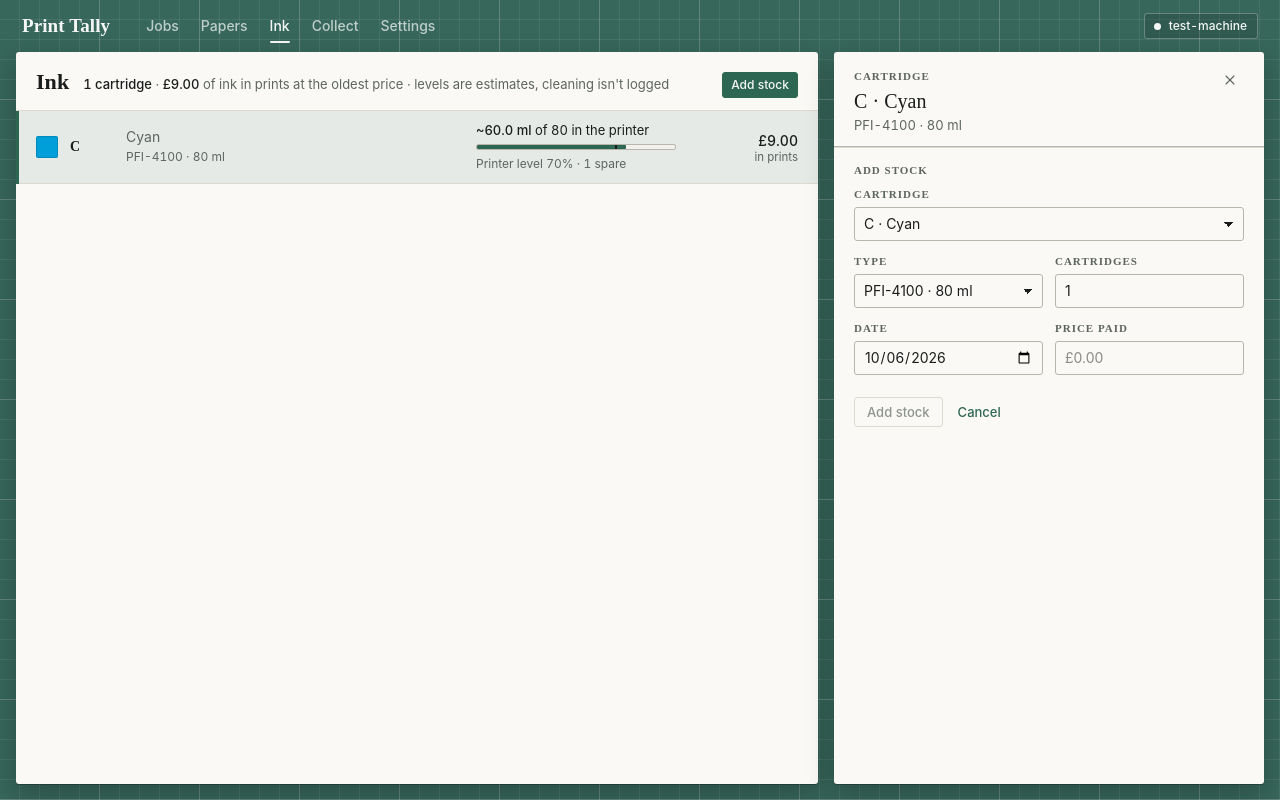
Test case: buying an existing cartridge requires a valid price and sends the chosen quantity and date
The width and height of the screenshot is (1280, 800).
Expected: the button "Add stock" is disabled, 854,397 -> 943,427
Type "invalid" into the field labelled "Price paid" at {"x": 1150, "y": 358}, box 1055,341 -> 1244,375
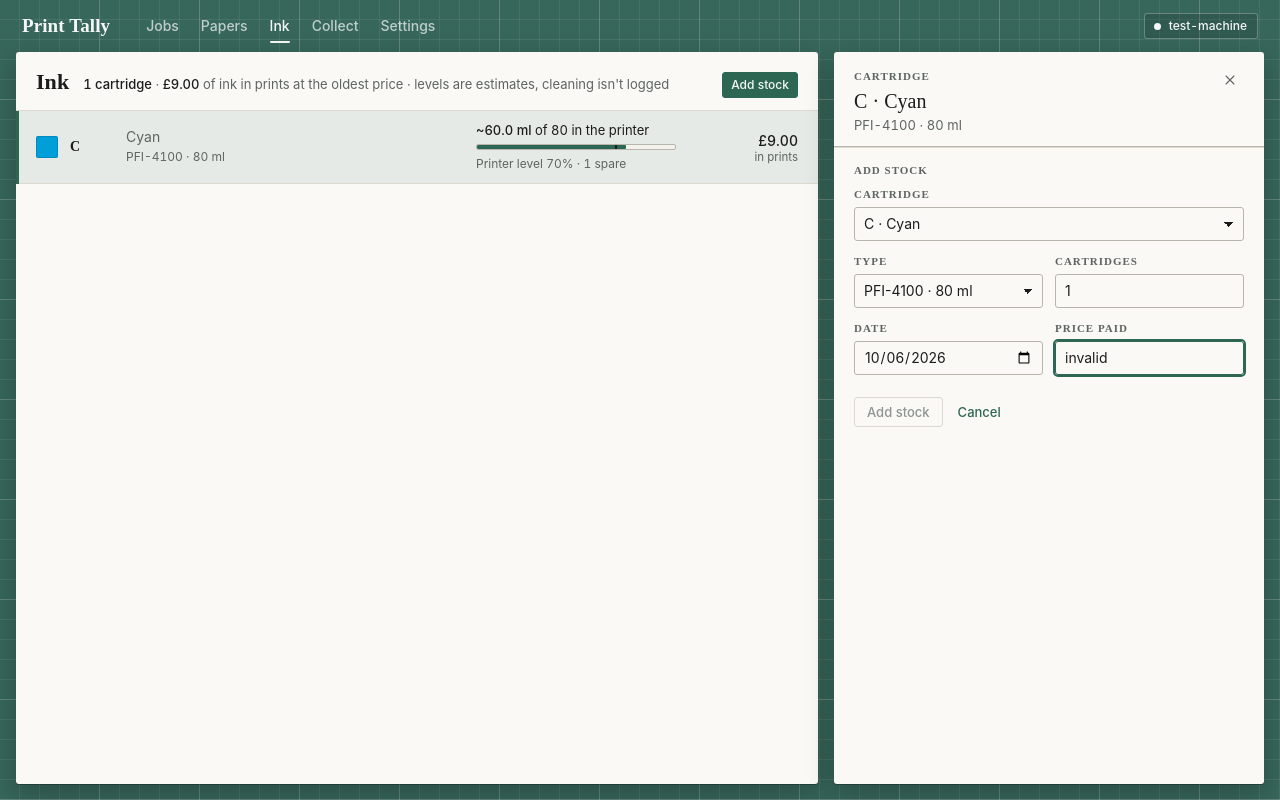
Expected: the button "Add stock" is disabled, 854,397 -> 943,427
Replace the text in the field labelled "Price paid" with "37.50" at {"x": 1150, "y": 358}, box 1055,341 -> 1244,375
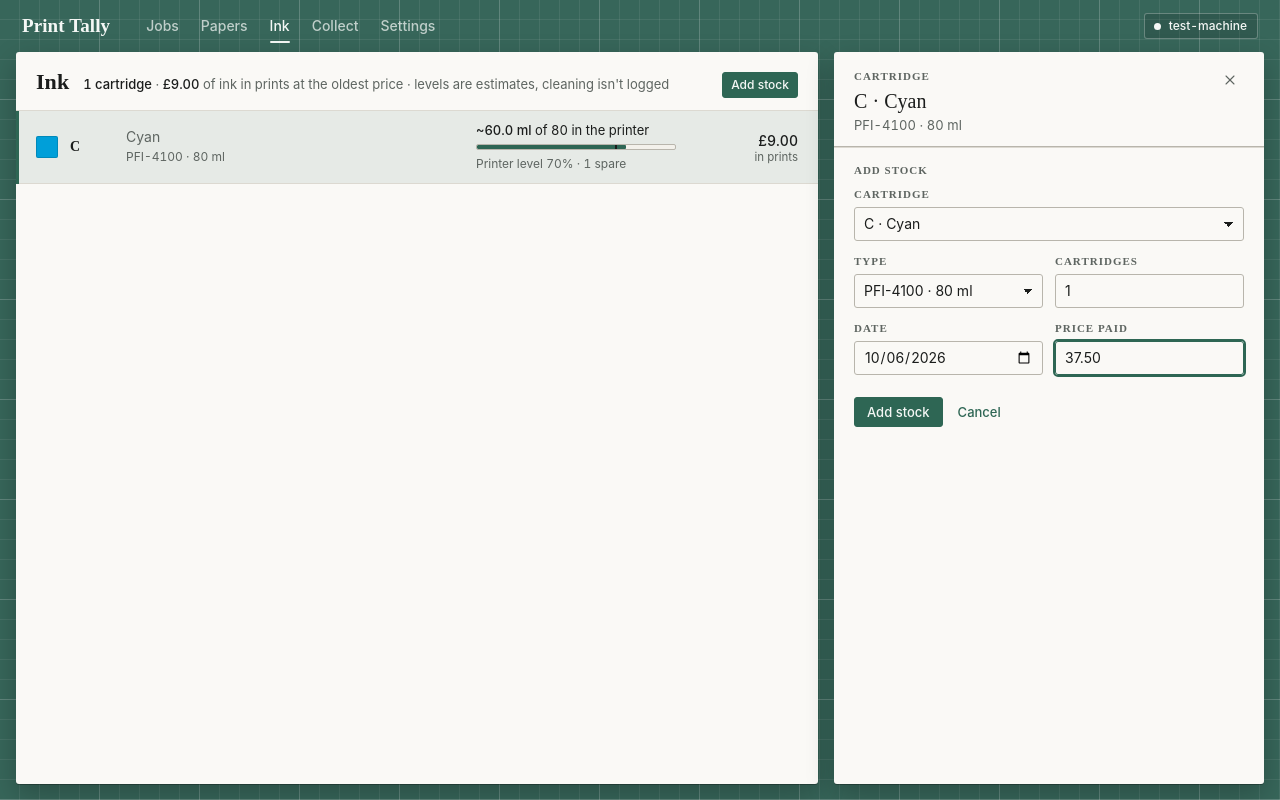
Clear the number field labelled "Cartridges" at {"x": 1150, "y": 291}, box 1055,274 -> 1244,308
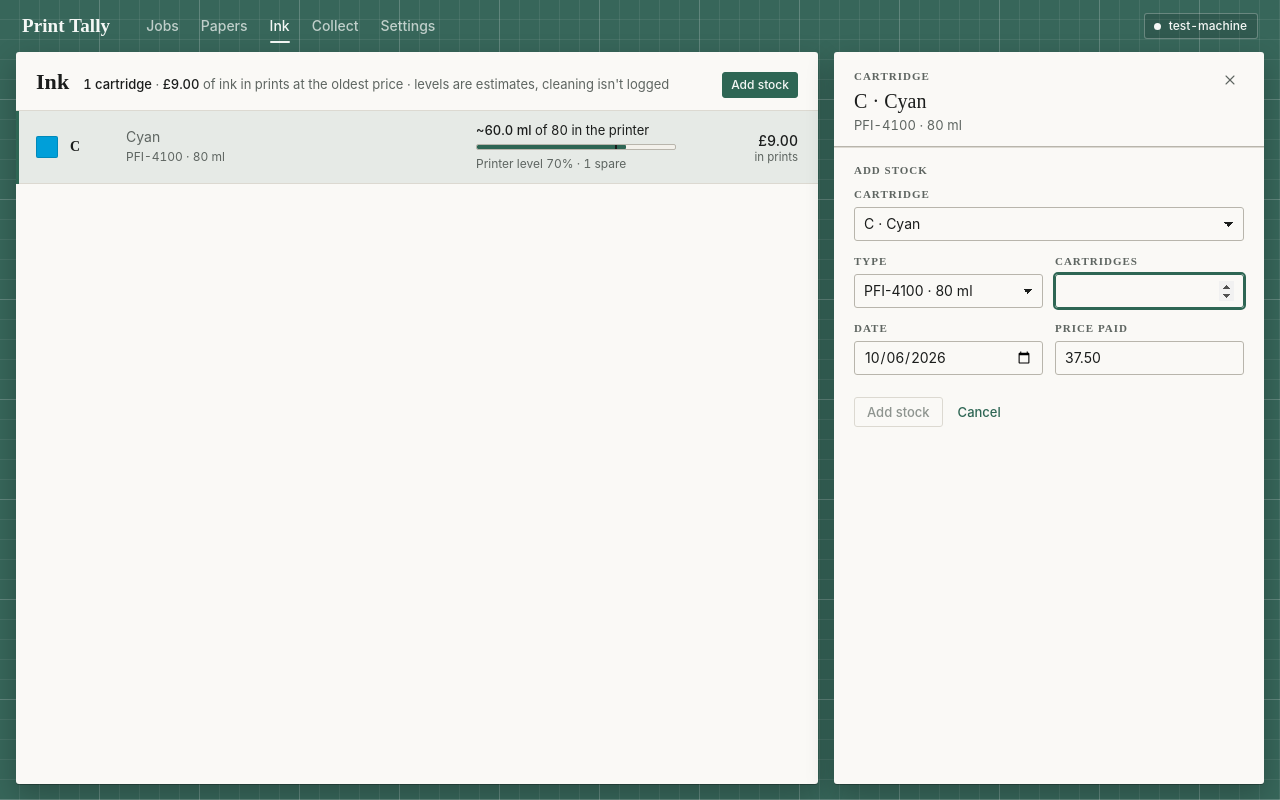
Now the button "Add stock" is disabled, box 854,397 -> 943,427
Type "2" into the number field labelled "Cartridges" at {"x": 1150, "y": 291}, box 1055,274 -> 1244,308
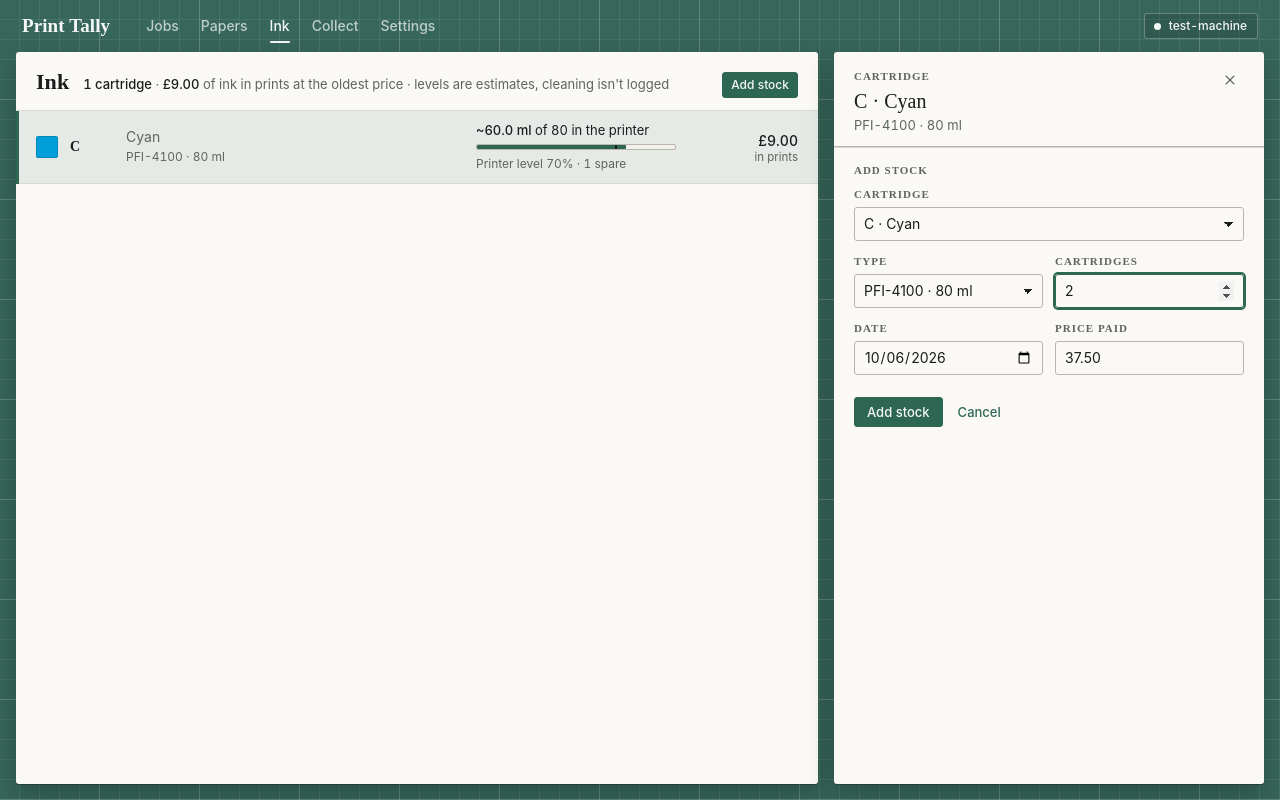
Click the button "Add stock" at {"x": 898, "y": 412}, box 854,397 -> 943,427
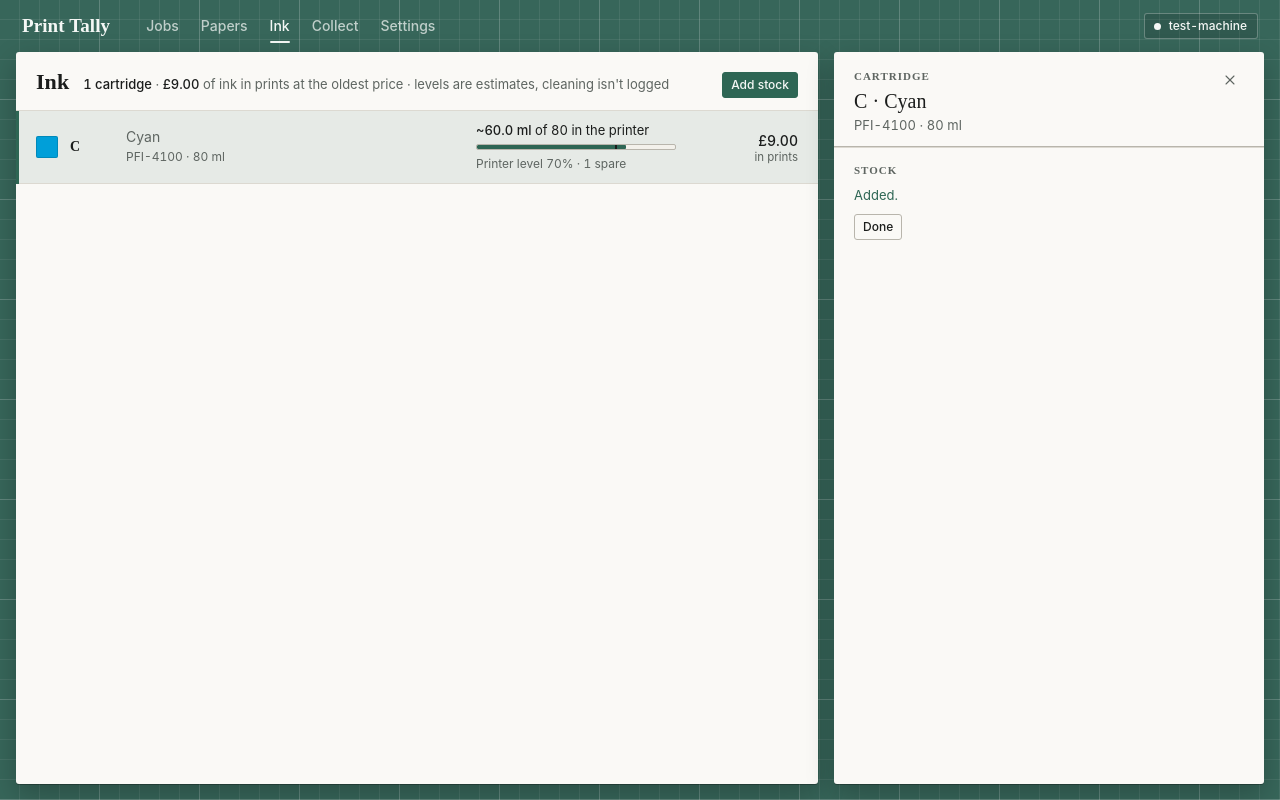
Now the text "Added." is shown, box 854,187 -> 898,203
